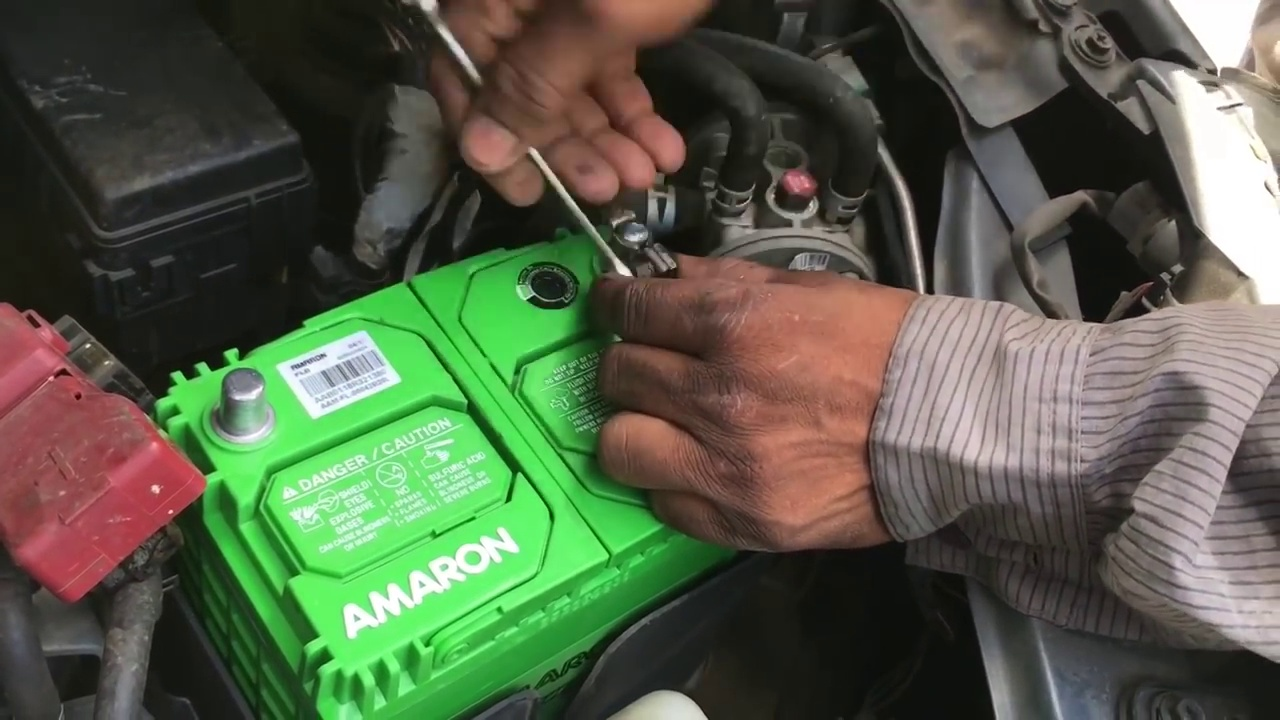battery: (167, 207, 792, 678)
neg_disconnected: (570, 173, 696, 287)
neg_touched: (540, 120, 741, 424)
pos_disconnected: (30, 318, 306, 508)
